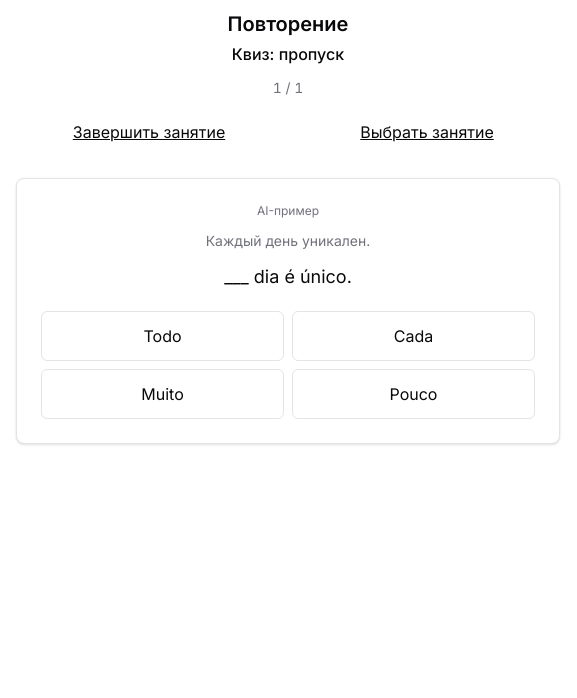
Test: QuizSession (cloze) › wrong option reveals the correct answer
This screenshot has width=577, height=698.
Click the button "Todo": (162, 336) [41, 311, 284, 361]
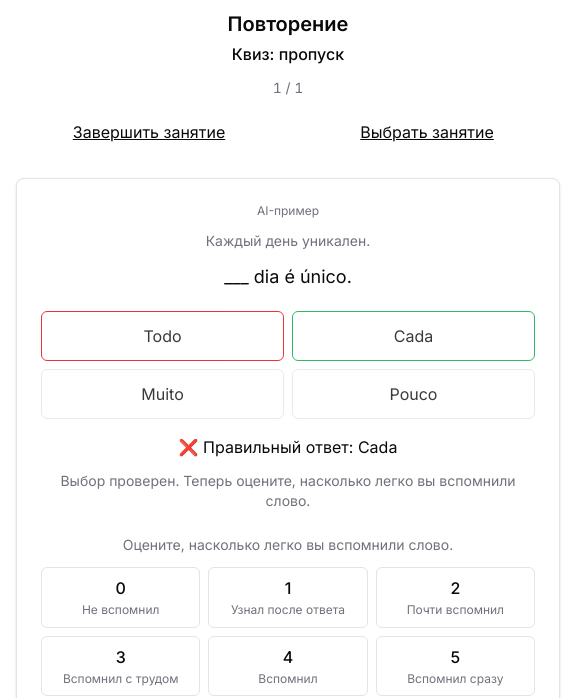
Expected: the text "❌ Правильный ответ: Cada" is shown, [179, 437, 397, 457]
Expected: the button "Muito" is disabled, [41, 369, 284, 419]
